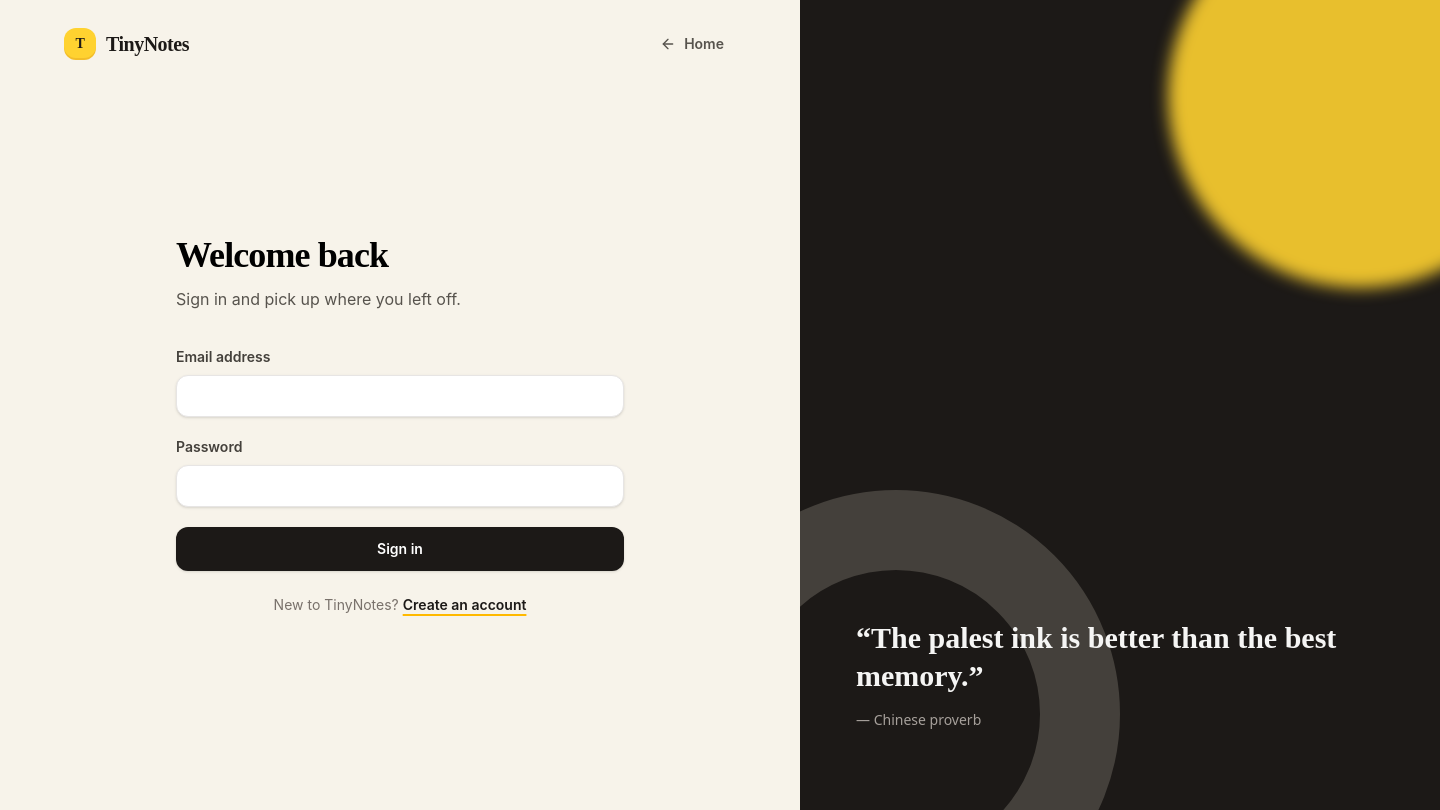
SignInPage › associates validation errors with invalid fields
Type "short" into the password field labelled "Password".
click(400, 486); type("short")  # box [176, 465, 624, 507]
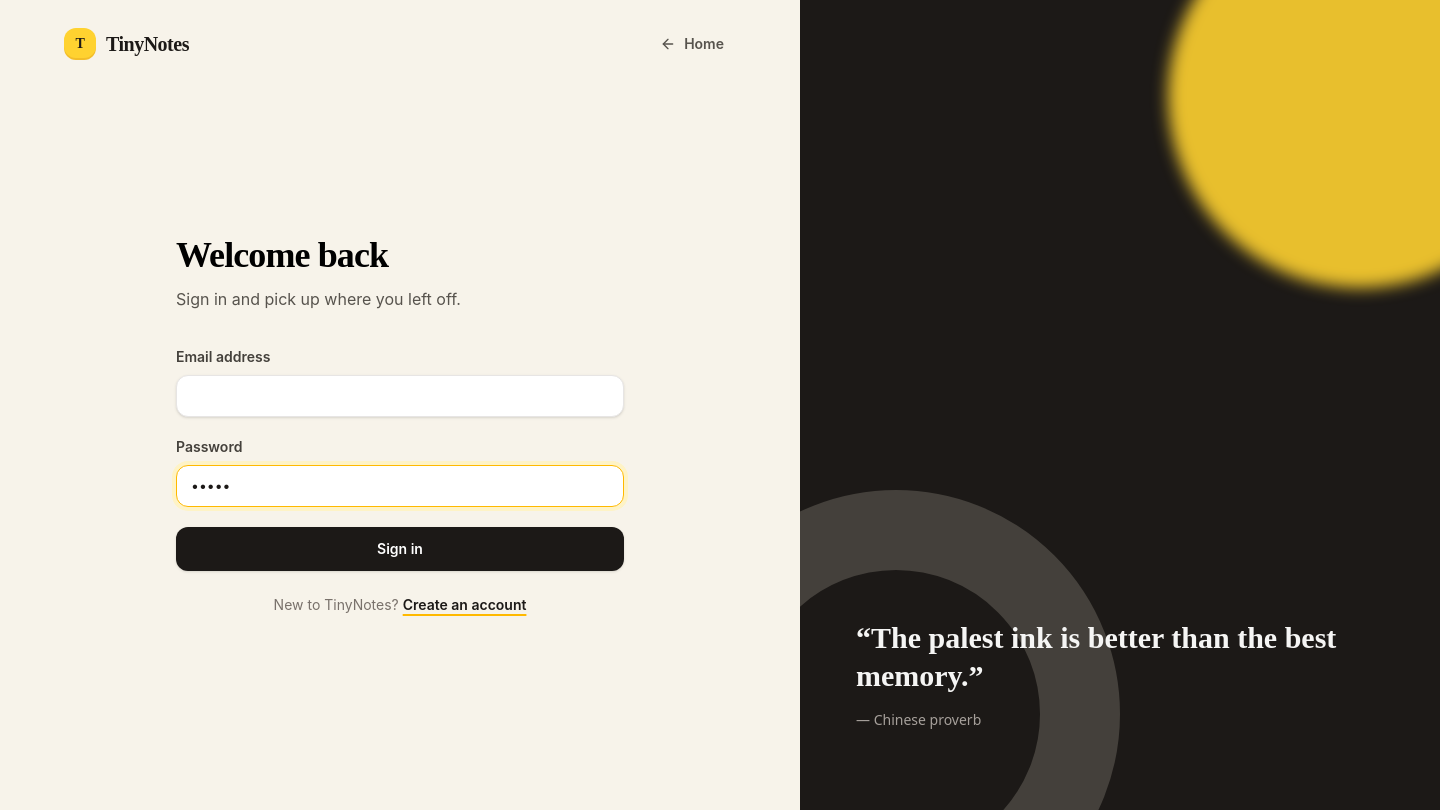
Click the button "Sign in".
click(400, 549)  # box [176, 527, 624, 571]
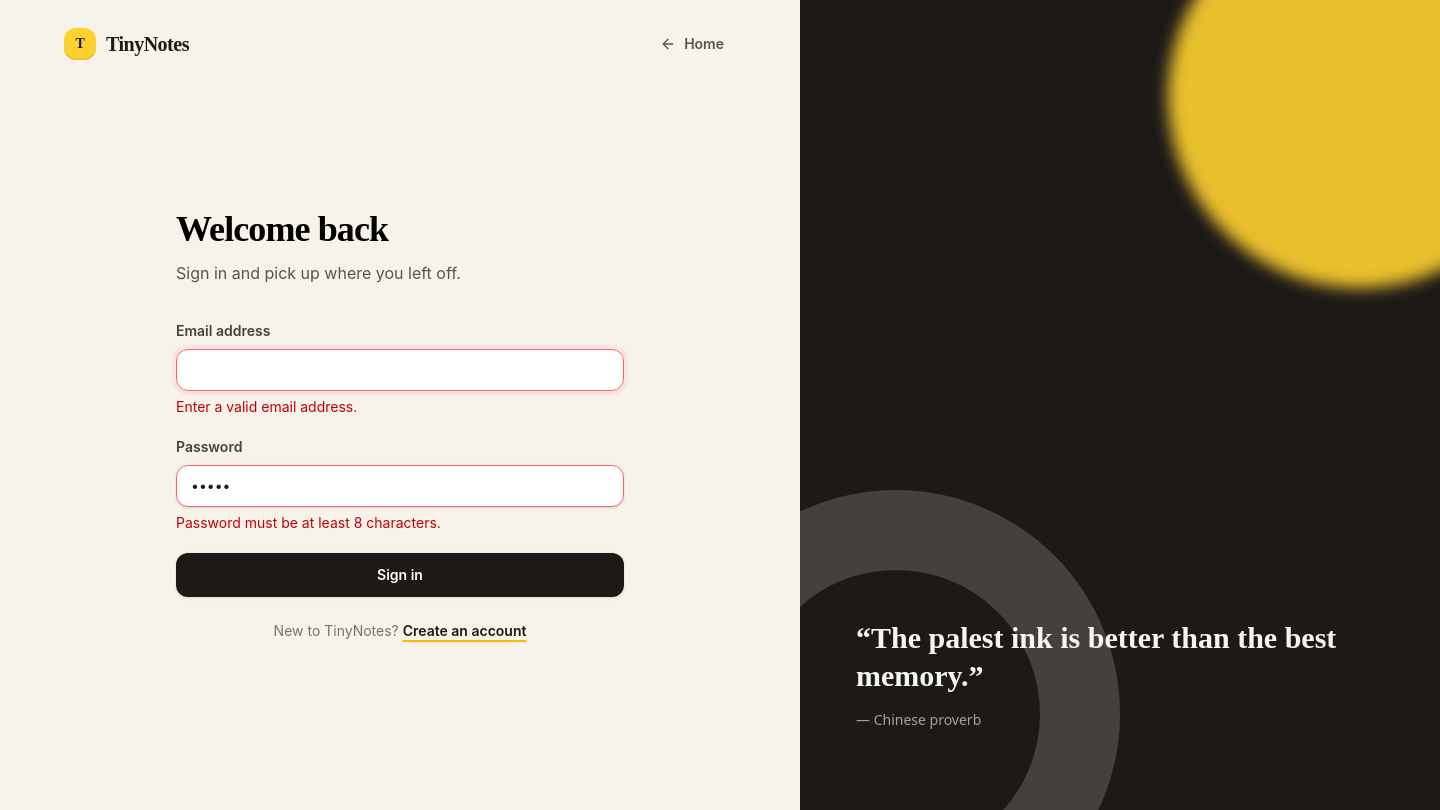
Expected: the text "Enter a valid email address." is shown, [176, 398, 357, 415]
Expected: the text "Password must be at least 8 characters." is shown, [176, 514, 441, 531]
